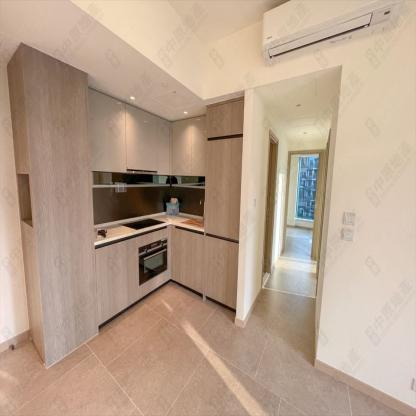Cupboard: (90, 85, 206, 177), (171, 226, 237, 309)
Exhaust Hood: (126, 168, 158, 175)
Faucet: (198, 197, 203, 220)
Oven: (138, 237, 168, 285)
Sink: (181, 219, 203, 228)
Stove: (121, 217, 165, 232)
